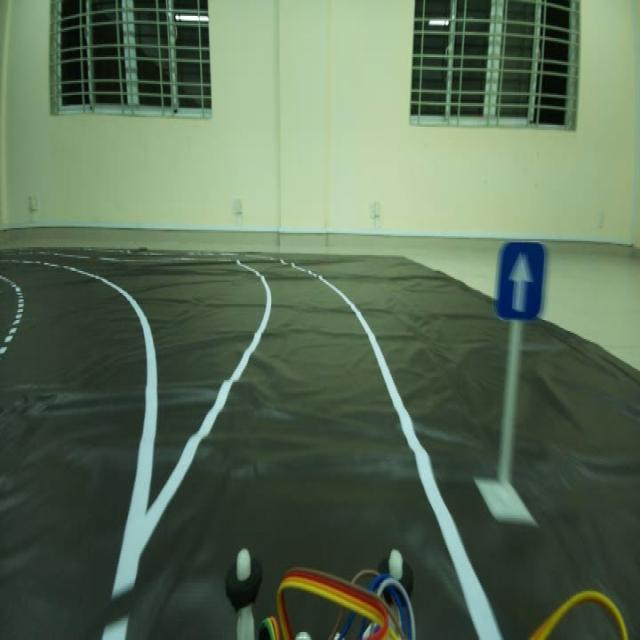onewayroad: (496, 240, 552, 324)
